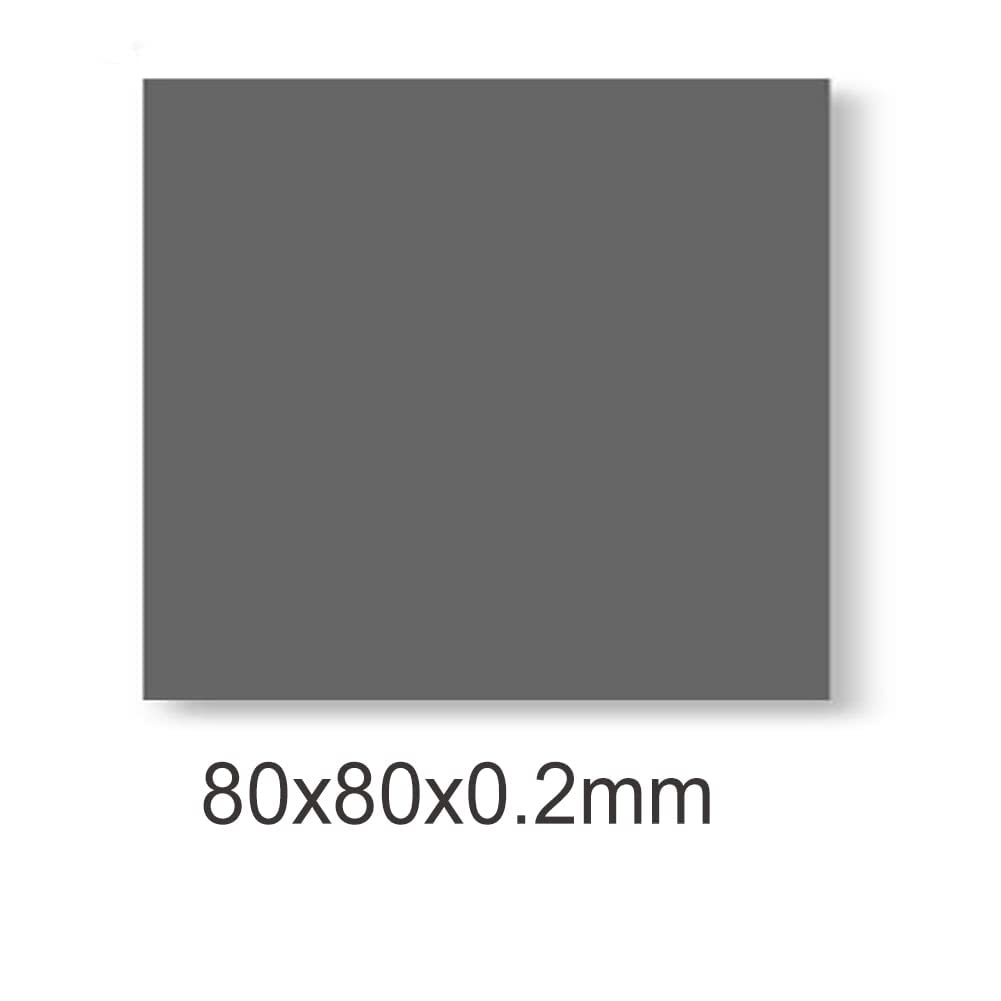80x80x0.2mm: (204, 762, 710, 825)
